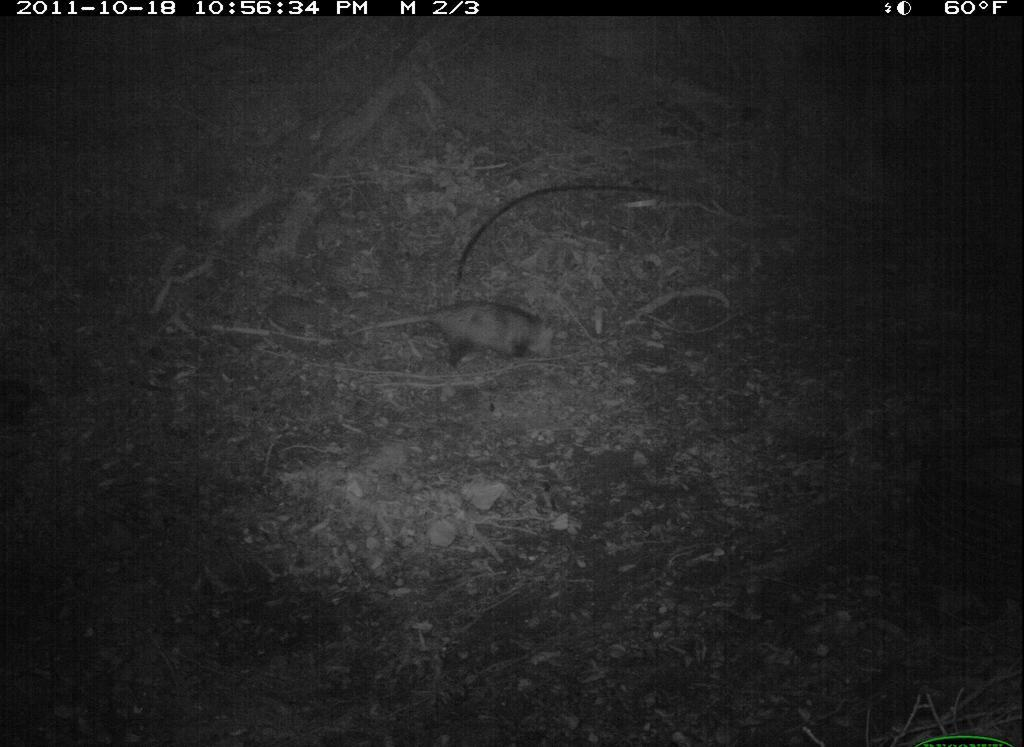opossum: (344, 295, 551, 383)
